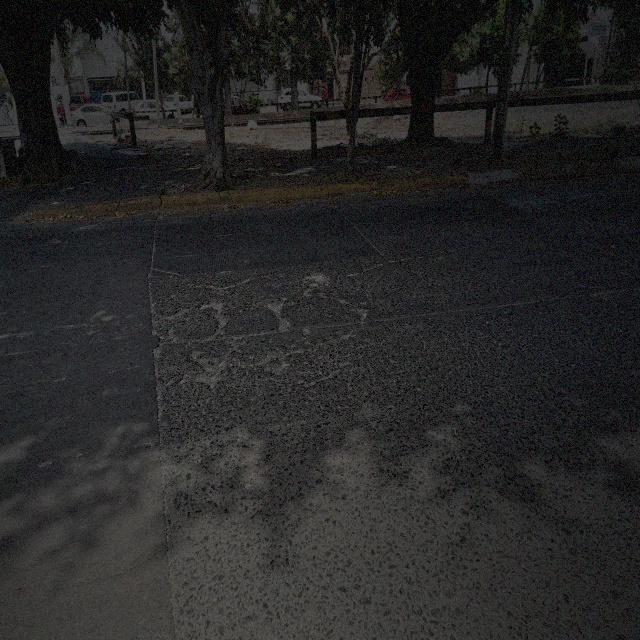pothole: (192, 356, 230, 390), (263, 293, 290, 331), (205, 296, 229, 334)
